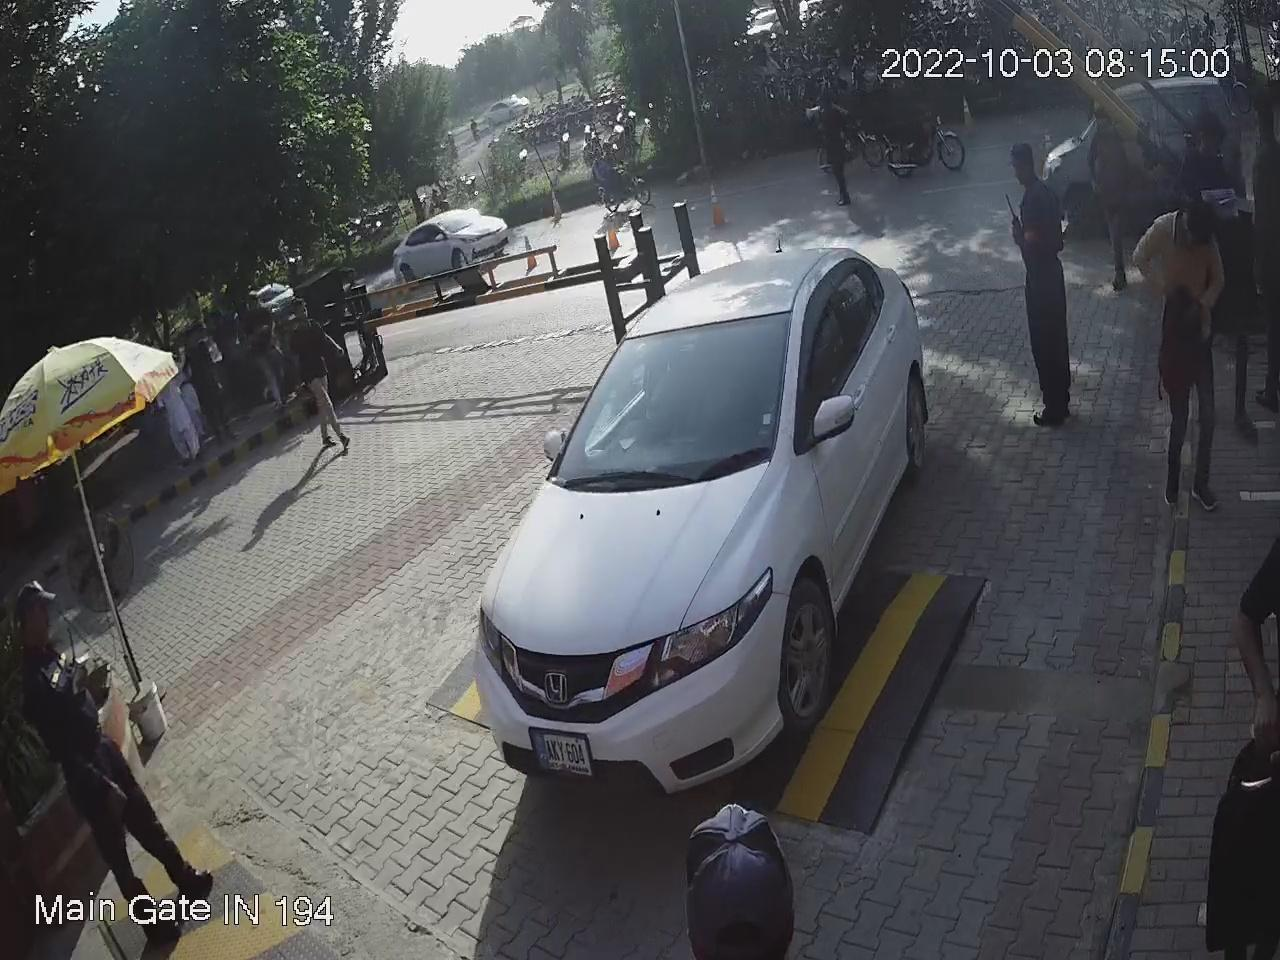windshield: (550, 308, 791, 480)
